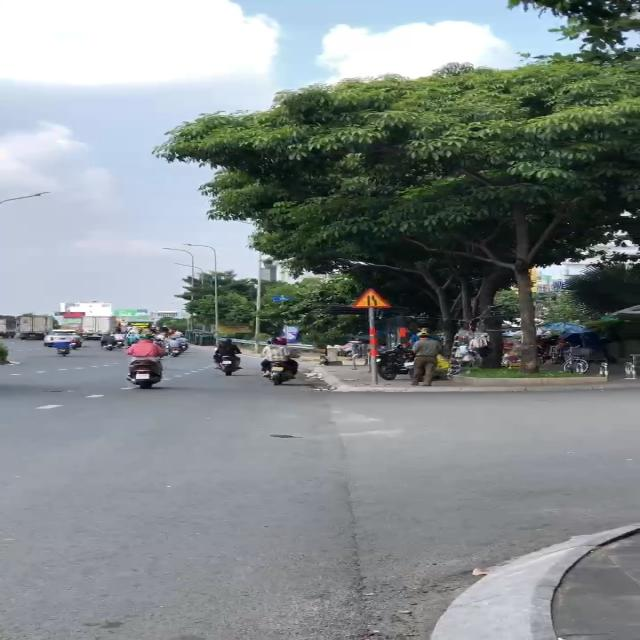Bien bao duong bi thu hep: (347, 284, 401, 310)
